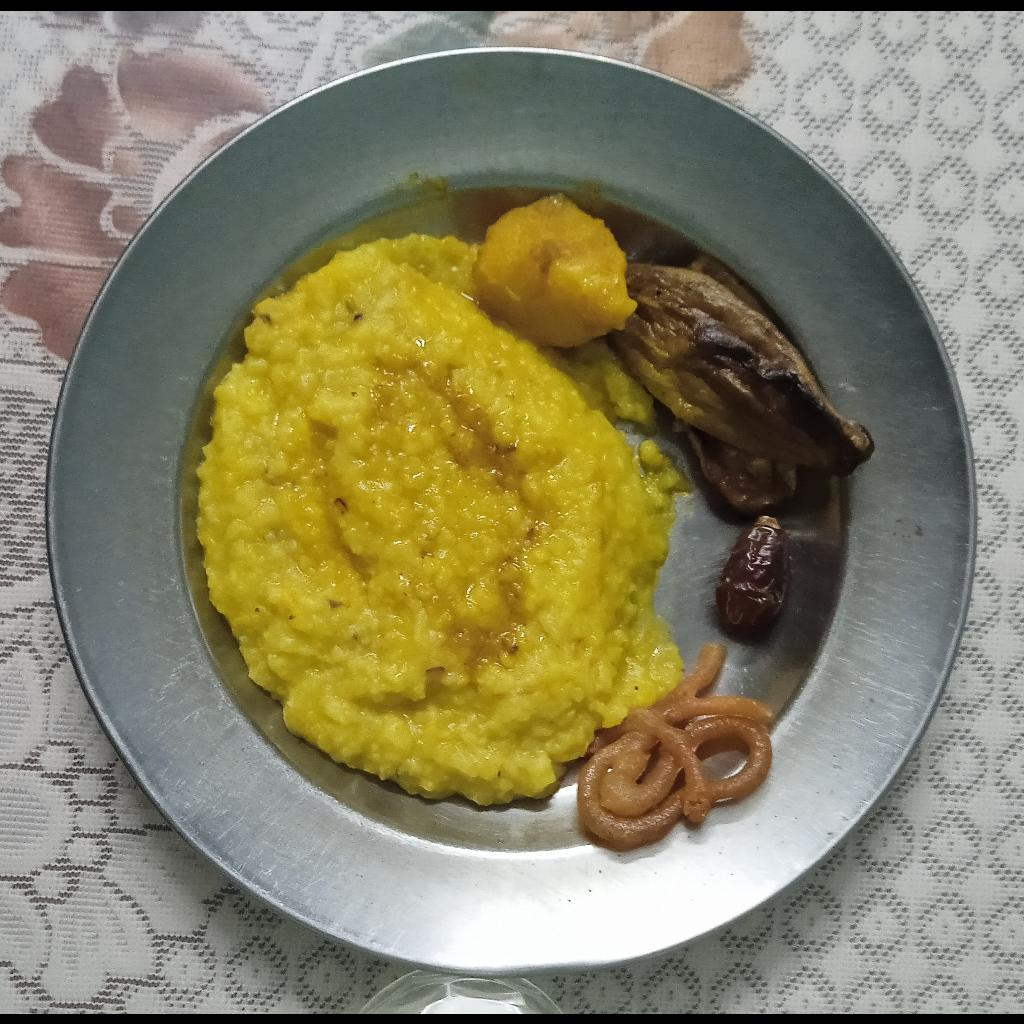dates: (716, 516, 791, 631)
jilapi: (577, 642, 773, 843)
khichuri: (197, 235, 693, 806)
potato: (473, 191, 635, 346)
potol: (615, 253, 872, 512)
